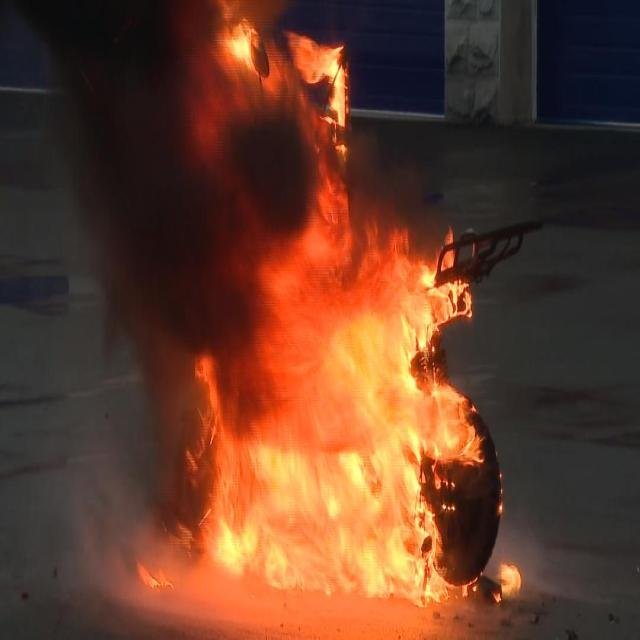Fire: (191, 360, 424, 604), (380, 224, 471, 344), (418, 374, 480, 466), (290, 34, 345, 122), (224, 23, 256, 67), (501, 559, 522, 601)
Smoke: (48, 0, 192, 422)
